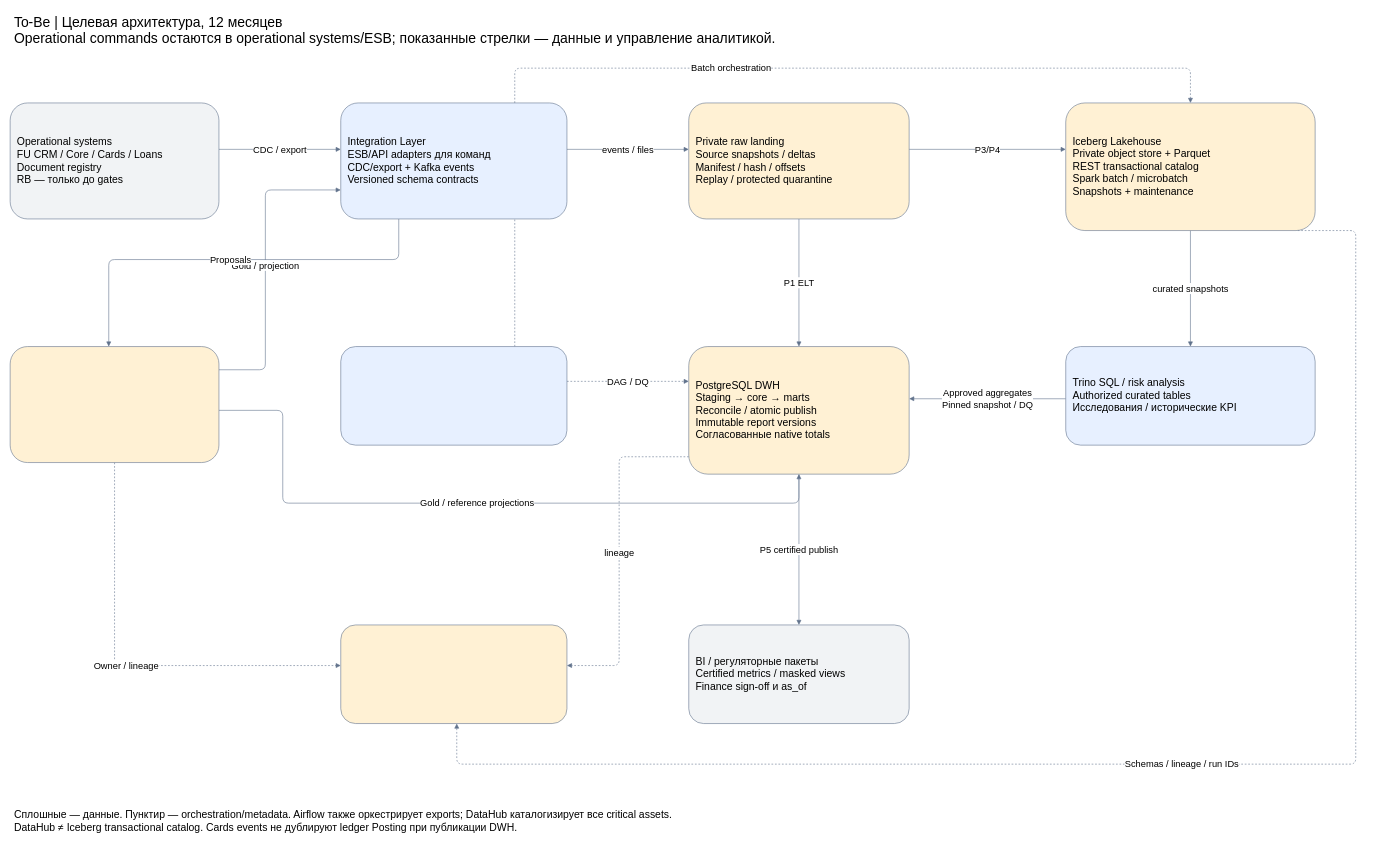
This 1398x852 diagram has some shape labels left out. Each missing label, with the box of its shape:
Airflow orchestration Batch DAG / backfill / DQ Git SQL + run manifests: (340, 346, 567, 445)
DataHub governance Owner / schema / lineage Metadata, без raw payload: (340, 624, 567, 724)
MDM Hub Customer / Reference Match + stewardship Gold history / outbox: (10, 346, 219, 463)
